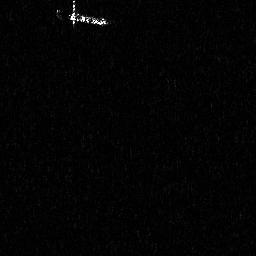ship: (56, 1, 114, 31)
